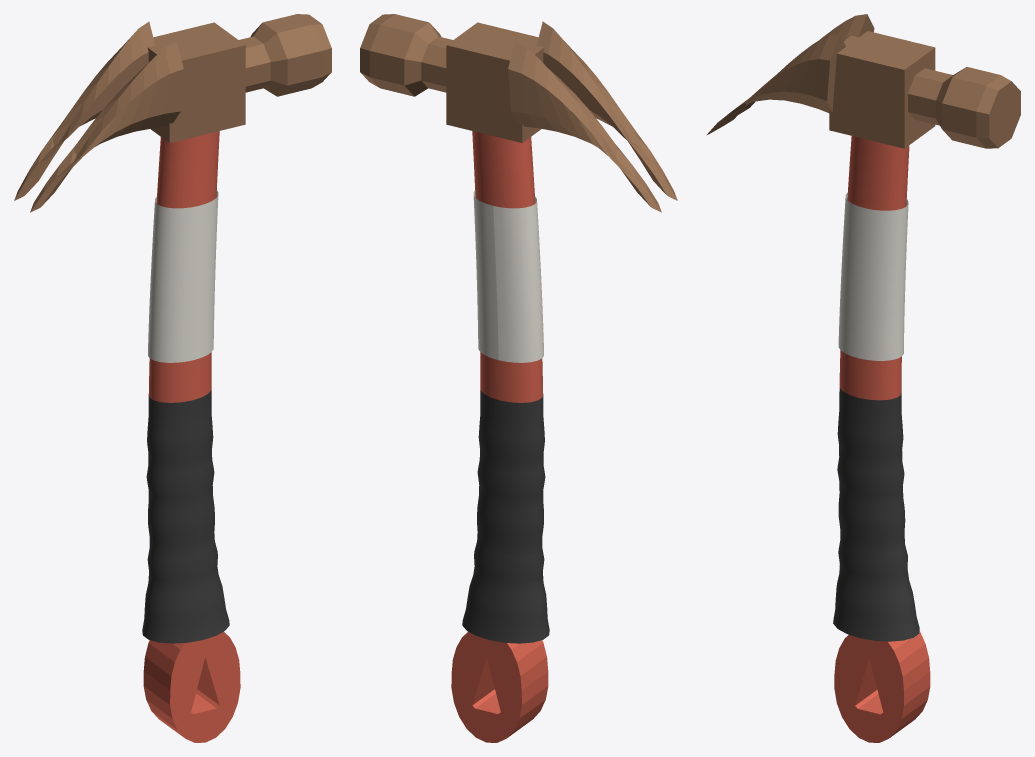
File: Hammer.glb
3 views of the same model, side by side, from view 1: azimuth 30°, elevation 25°; view 2: azimuth 150°, elevation 25°; view 3: azimuth 330°, elevation 25° (orthographic).
Visible parts, largest first — view 1: Hammer; view 2: Hammer; view 3: Hammer.
Part boxes in pixels (x1,y1,x2,y2): Hammer: [14, 14, 331, 742]; Hammer: [360, 14, 677, 742]; Hammer: [706, 14, 1020, 742].
Size of the model in its own units: 0.1471 by 0.3389 by 0.0387.
